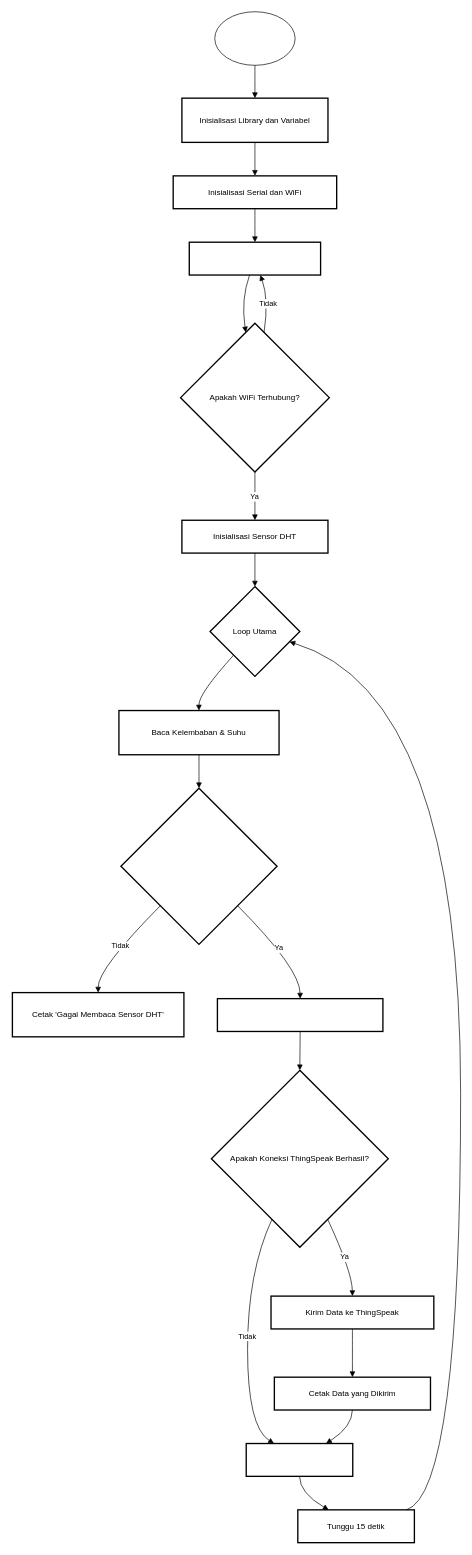
Some shapes in this 472 by 1555 pixel diagram are drawn without their labels. Here are the shapes that lost their labels. From the top down, the centre of each, then its label:
the point at 254,38: Mulai
the point at 254,258: Hubungkan ke WiFi
the point at 198,866: Apakah Pembacaan Valid?
the point at 299,1015: Hubungkan ke ThingSpeak
the point at 299,1460: Tutup Koneksi
